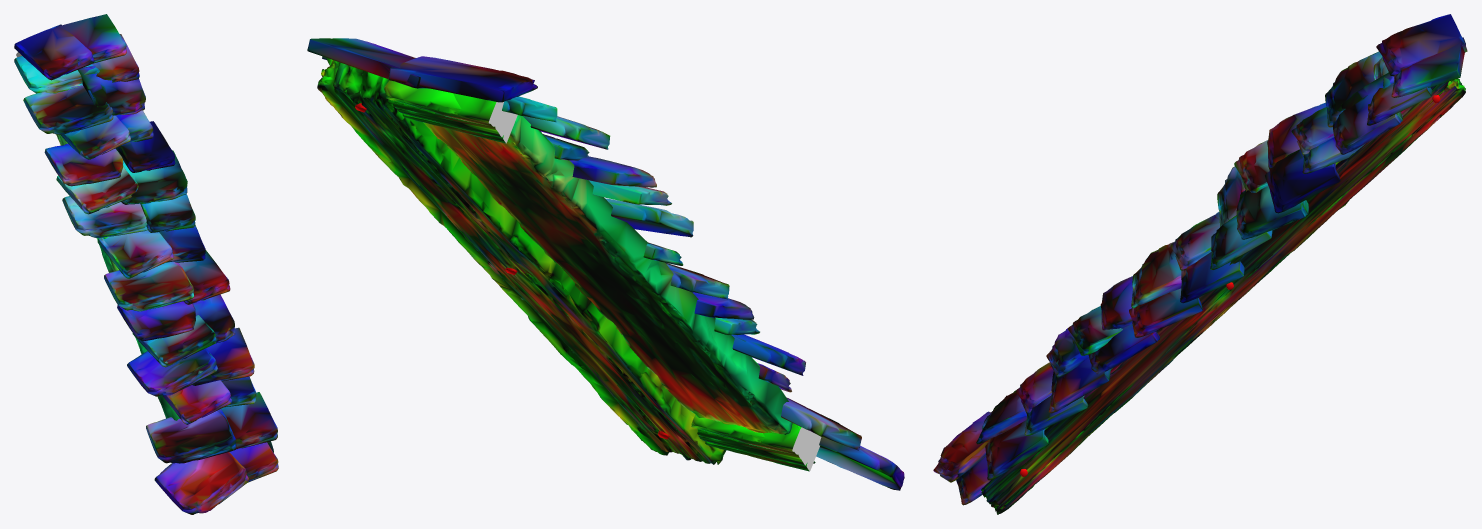
Rendered from SM_Stone_Roof_End_R.fbx.
The picture shows the model from 3 angles, left to right: view 1: azimuth 30°, elevation 25°; view 2: azimuth 150°, elevation 25°; view 3: azimuth 270°, elevation 25°; orthographic projection. The views are drawn at different scales.
Visible parts, largest first — view 1: SM_Stone_Roof_End_R_LOD0; view 2: SM_Stone_Roof_End_R_LOD0; view 3: SM_Stone_Roof_End_R_LOD0.
Part boxes in pixels (box(x1,y1,x2,y2)): SM_Stone_Roof_End_R_LOD0: box(14, 14, 278, 514); SM_Stone_Roof_End_R_LOD0: box(307, 38, 904, 490); SM_Stone_Roof_End_R_LOD0: box(933, 14, 1467, 514).
Size of the model in its own units: 143 by 366 by 350.
